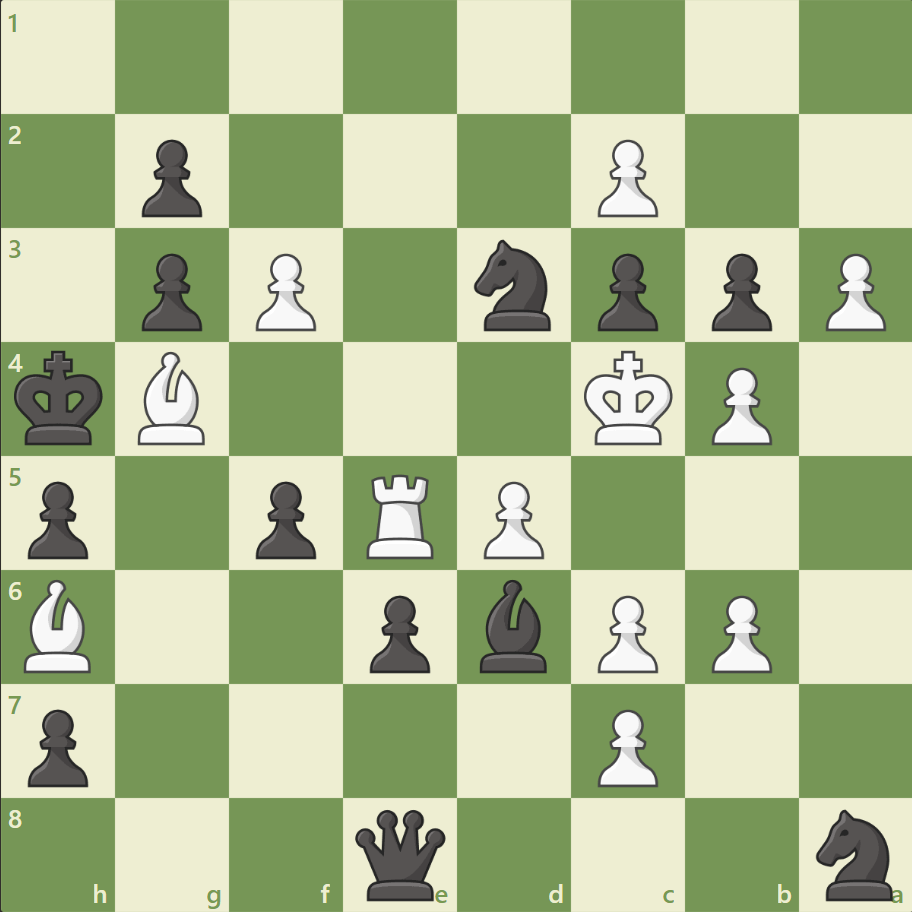B: (17, 574, 101, 676), (131, 347, 215, 449)
K: (579, 344, 679, 452)
P: (701, 586, 776, 677), (474, 473, 549, 564), (701, 359, 776, 450), (247, 246, 322, 337), (588, 700, 662, 791), (588, 586, 662, 677), (815, 246, 889, 337), (588, 132, 662, 223)
R: (360, 466, 442, 563)
b: (471, 574, 555, 676)
k: (11, 344, 111, 452)
n: (465, 234, 562, 337), (806, 802, 903, 904)
p: (20, 700, 95, 791), (247, 473, 322, 564), (20, 473, 95, 564), (701, 246, 776, 337), (133, 246, 208, 337), (133, 132, 208, 223), (361, 586, 435, 677), (588, 246, 662, 337)
q: (351, 804, 450, 903)
